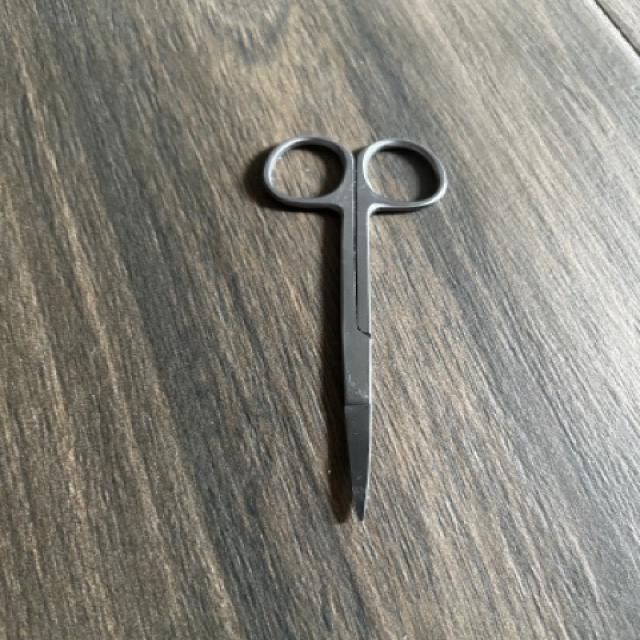scissor: (240, 134, 452, 532)
